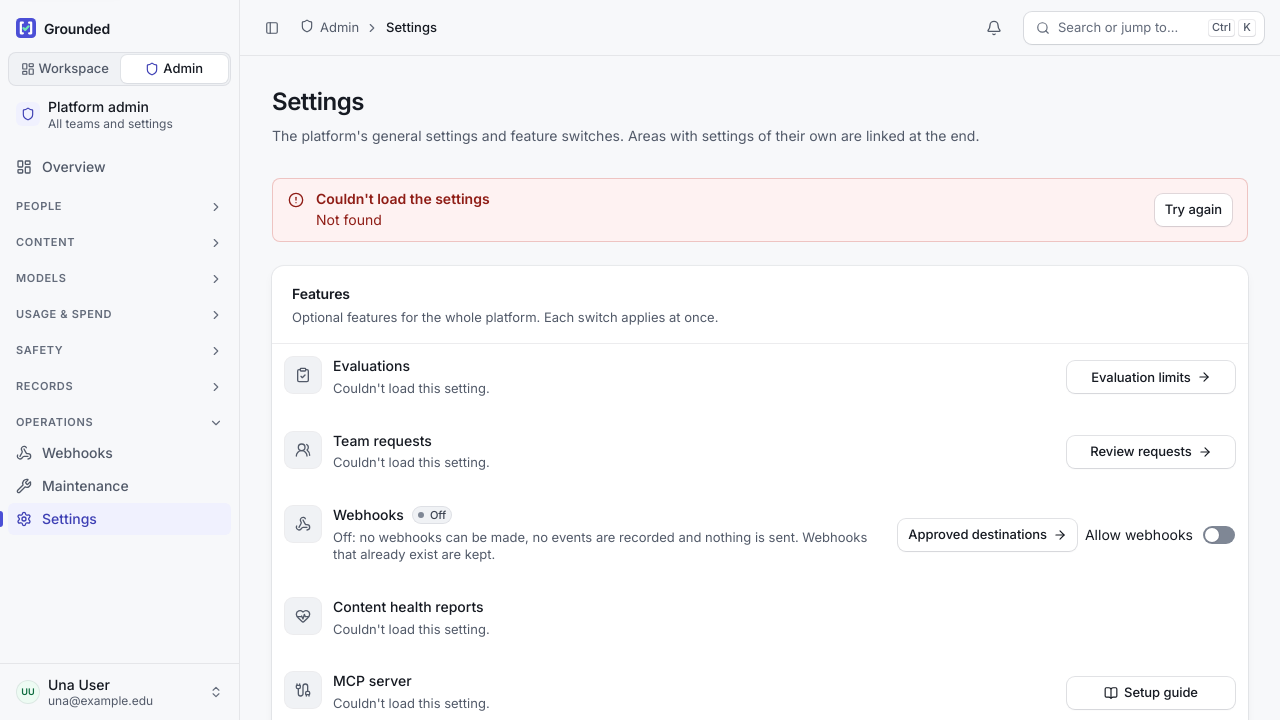
Admin → Settings › Features › Webhooks › shows a failed save and reloads the setting
Click the switch named "Allow webhooks" at x=1219, y=535, box [1203, 526, 1235, 544]
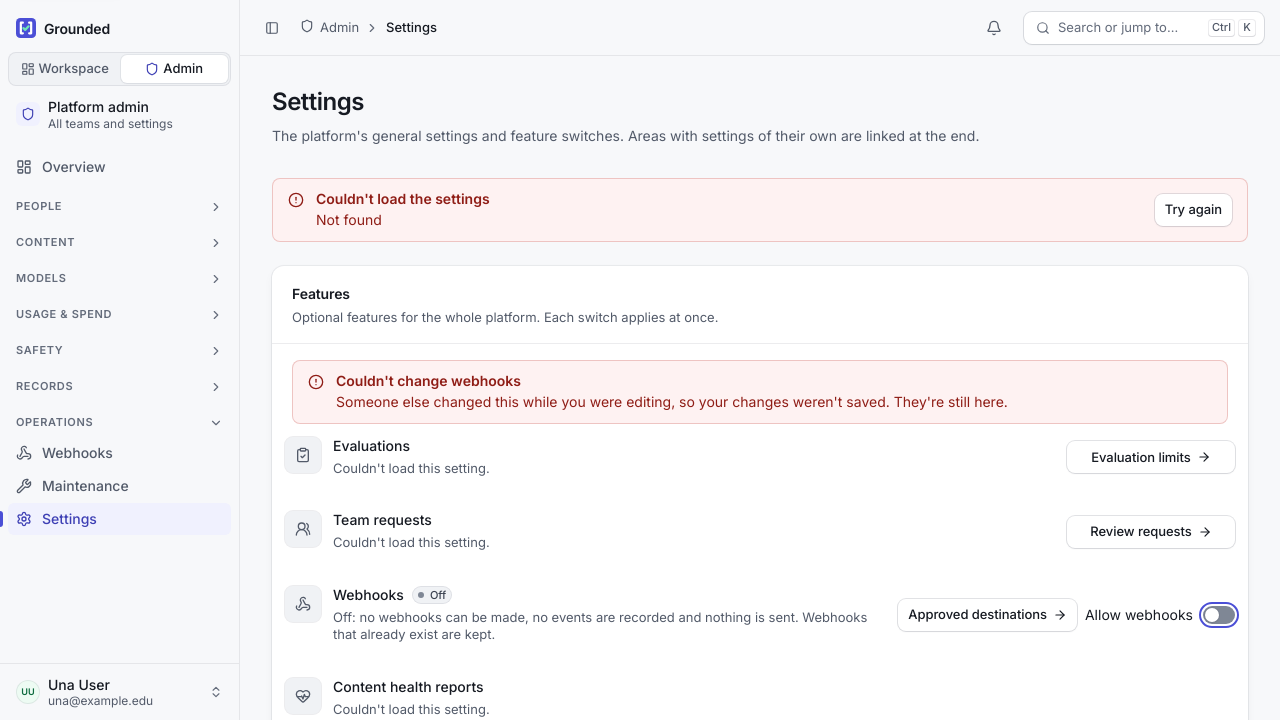
Expected: the text "Couldn't change webhooks" is shown, [336, 372, 521, 389]
